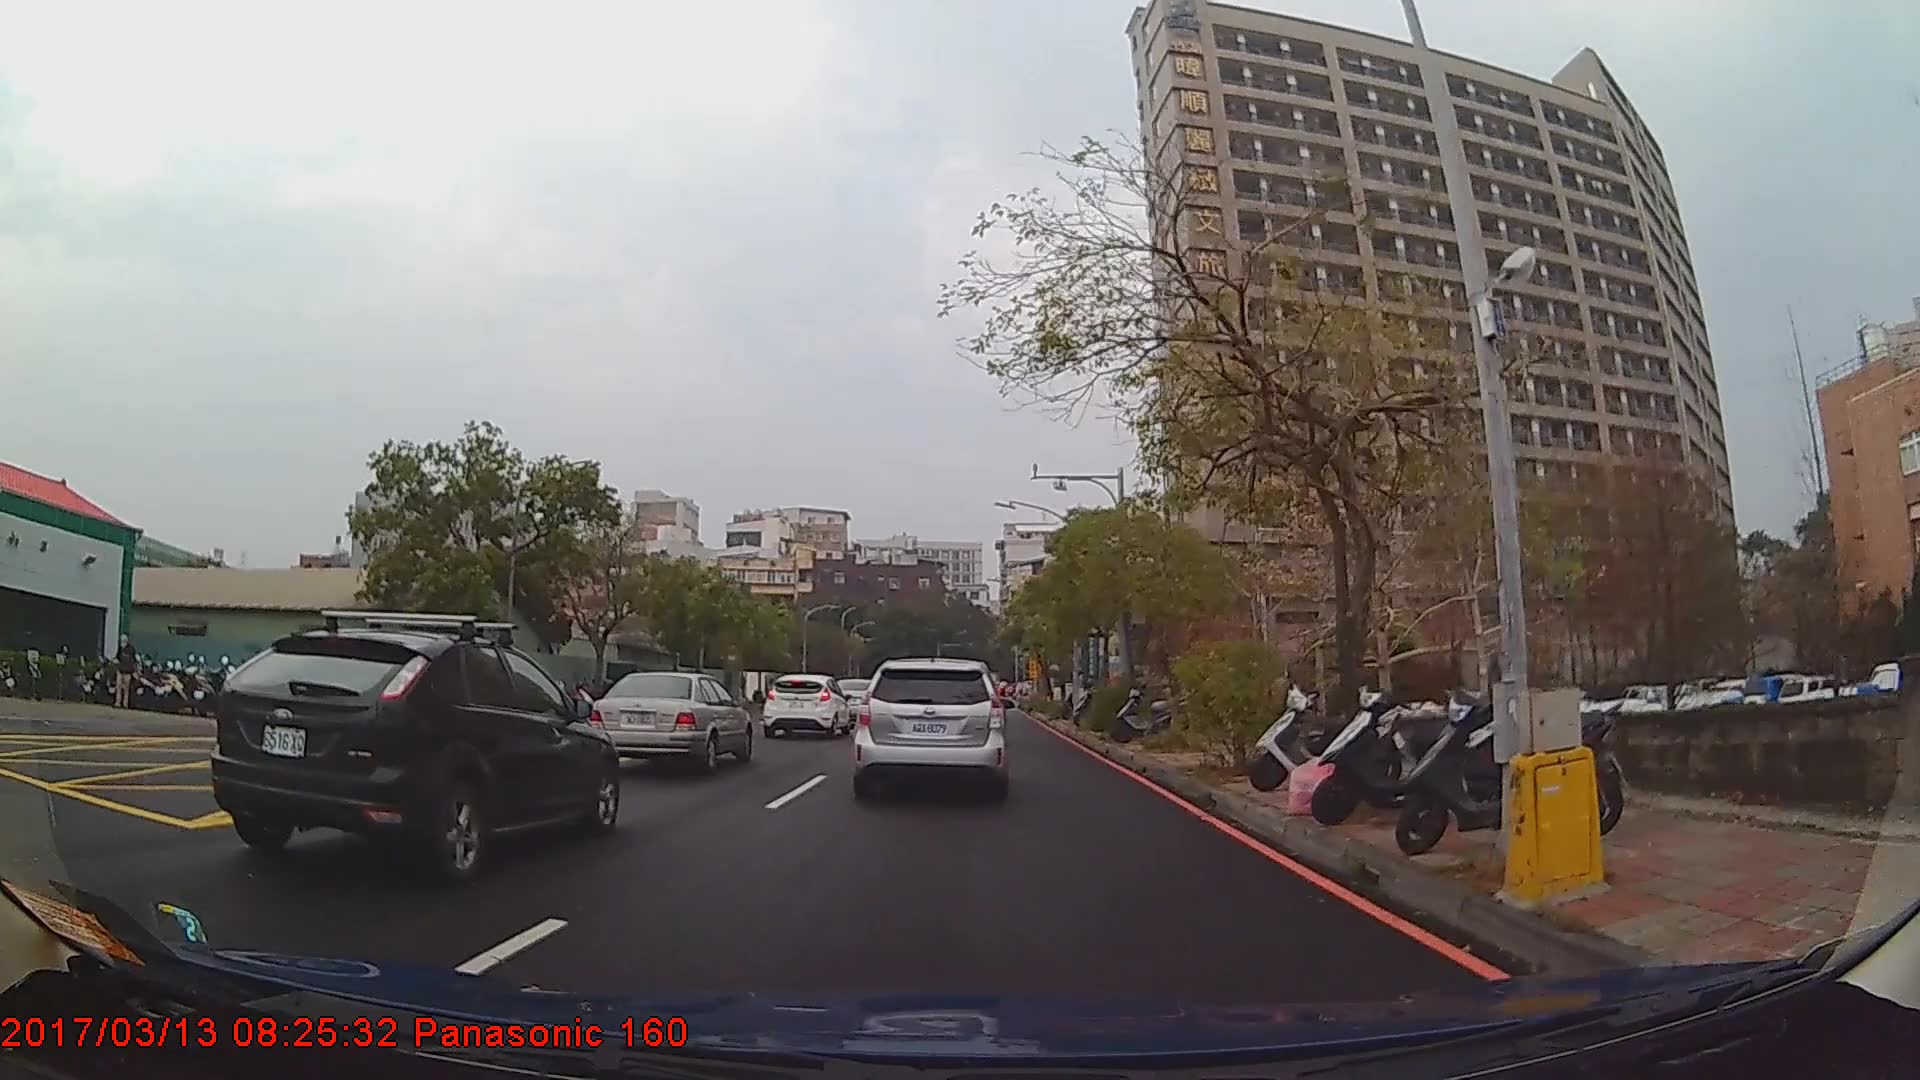pedestrian: (114, 637, 140, 712)
vehicle: (209, 625, 618, 878), (850, 655, 1005, 800), (585, 671, 751, 771), (760, 674, 851, 741)
